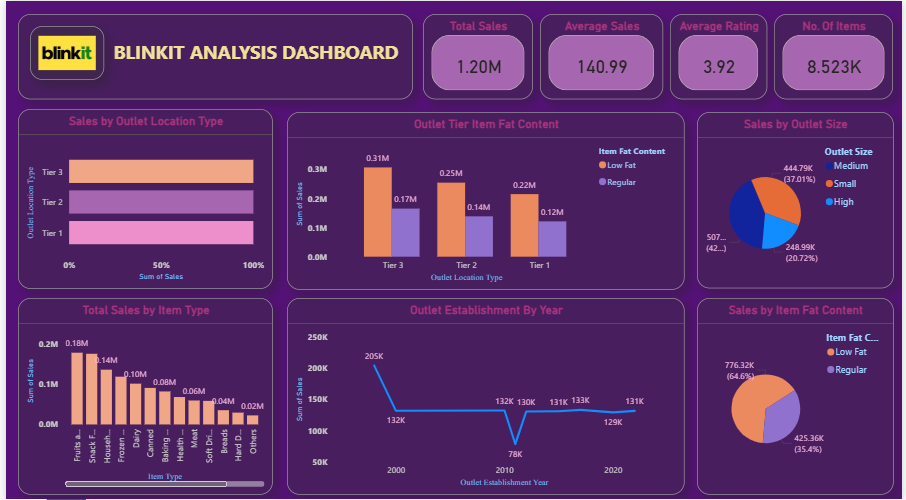

This screenshot's page, from the dashboard's own definition file:
{"tool":"powerbi","page":{"name":"Page 1","canvas":[1280,720],"ordinal":0},"visuals":[{"type":"pieChart","title":" Sales by Item Fat Content","fields":{"Category":["blinkit_data.Item Fat Content"],"Y":["Sum(blinkit_data.Sales)"]},"box":[986.5,423.8,280.6,280.6],"z":0},{"type":"columnChart","title":"Total Sales by Item Type","fields":{"Category":["blinkit_data.Item Type"],"Y":["Sum(blinkit_data.Sales)"]},"box":[17,423.8,364.3,280.6],"z":1000},{"type":"clusteredColumnChart","title":"Outlet Tier Item Fat Content","fields":{"Category":["blinkit_data.Outlet Location Type"],"Y":["Sum(blinkit_data.Sales)"],"Series":["blinkit_data.Item Fat Content"]},"box":[401.1,158.7,568.3,253.7],"z":2000},{"type":"lineChart","title":"Outlet Establishment By Year","fields":{"Category":["blinkit_data.Outlet Establishment Year"],"Y":["Sum(blinkit_data.Sales)"]},"box":[401.1,423.8,568.3,280.6],"z":3000},{"type":"pieChart","title":" Sales by Outlet Size","fields":{"Category":["blinkit_data.Outlet Size"],"Y":["Sum(blinkit_data.Sales)"]},"box":[986.5,158.7,280.6,252.3],"z":4000},{"type":"hundredPercentStackedBarChart","title":" Sales by Outlet Location Type","fields":{"Y":["Sum(blinkit_data.Sales)"],"Category":["blinkit_data.Outlet Location Type"]},"box":[17,154.5,364.3,256.5],"z":5000},{"type":"textbox","box":[17,18.4,564.1,121.9],"z":6000},{"type":"image","box":[34,35.4,106.3,76.5],"z":7000},{"type":"cardVisual","title":"Total Sales","fields":{"Data":["Sum(blinkit_data.Sales)"]},"box":[595.3,18.4,157.3,121.9],"z":8000},{"type":"cardVisual","title":"No. Of Items","fields":{"Data":["CountNonNull(blinkit_data.Item Type)"]},"box":[1097,18.4,170.1,121.9],"z":9000},{"type":"cardVisual","title":"Average Rating","fields":{"Data":["Avg(blinkit_data.Rating)"]},"box":[948.2,18.4,138.9,121.9],"z":10000},{"type":"cardVisual","title":"Average Sales","fields":{"Data":["Avg(blinkit_data.Sales)"]},"box":[762.5,18.4,175.7,121.9],"z":10001}]}

Visuals, with their boxes in screenshot pixels (x1, y1, x2, y2), scaled from the page's 1280x720 canvas onto the 906x500 screenshot:
" Sales by Item Fat Content" pieChart: [698, 294, 897, 489]
"Total Sales by Item Type" columnChart: [12, 294, 270, 489]
"Outlet Tier Item Fat Content" clusteredColumnChart: [284, 110, 686, 286]
"Outlet Establishment By Year" lineChart: [284, 294, 686, 489]
" Sales by Outlet Size" pieChart: [698, 110, 897, 285]
" Sales by Outlet Location Type" hundredPercentStackedBarChart: [12, 107, 270, 285]
textbox: [12, 13, 411, 97]
image: [24, 25, 99, 78]
"Total Sales" cardVisual: [421, 13, 533, 97]
"No. Of Items" cardVisual: [776, 13, 897, 97]
"Average Rating" cardVisual: [671, 13, 769, 97]
"Average Sales" cardVisual: [540, 13, 664, 97]
